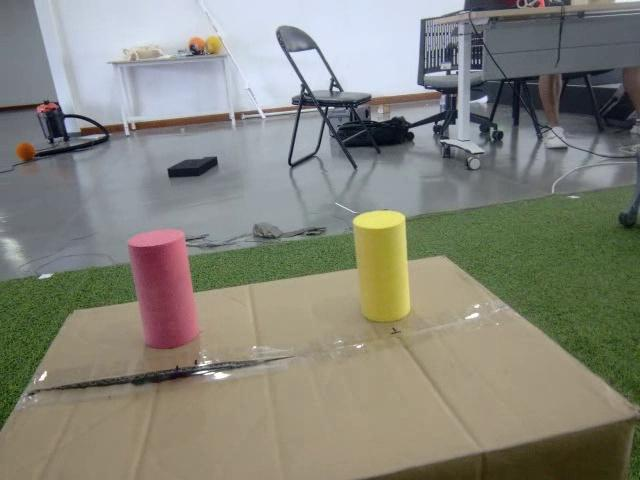red_cylinder: (127, 229, 201, 349)
yellow_cylinder: (347, 209, 416, 324)
